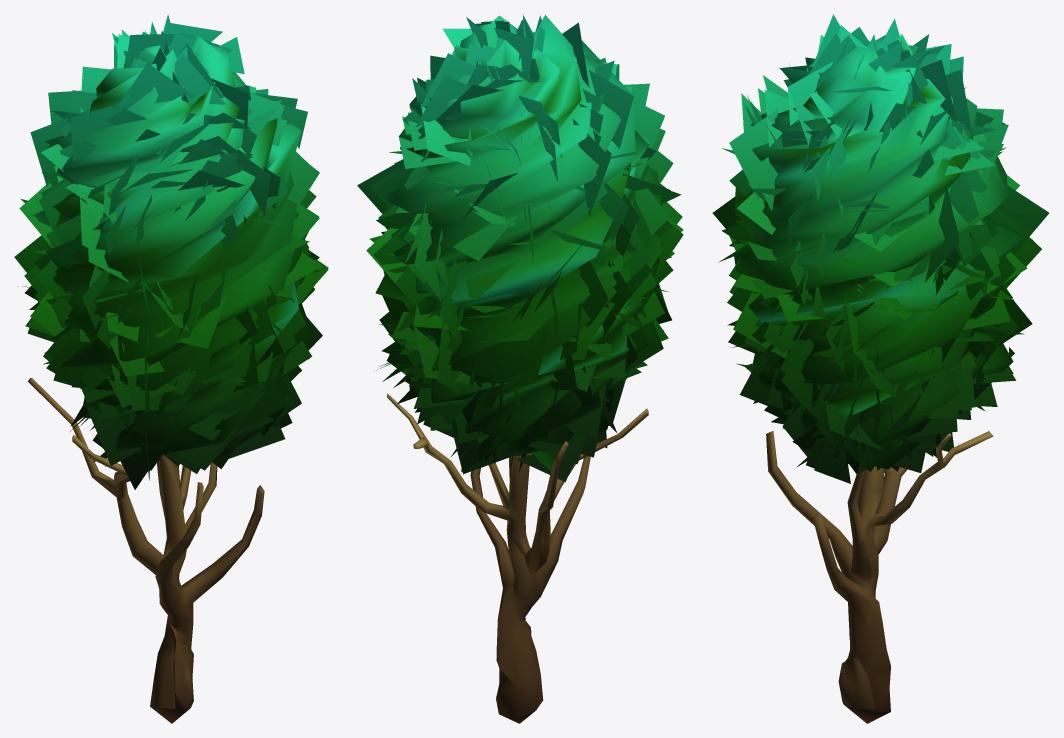
The model's file is Forest_Tree_2C.fbx.
3 views of the same model, side by side, from view 1: azimuth 30°, elevation 25°; view 2: azimuth 150°, elevation 25°; view 3: azimuth 270°, elevation 25° (orthographic). The views are drawn at different scales.
Visible parts, largest first — view 1: Forest_Tree_2C; view 2: Forest_Tree_2C; view 3: Forest_Tree_2C.
Part boxes in pixels (box(x1,y1,x2,y2)): Forest_Tree_2C: box(14, 14, 328, 723); Forest_Tree_2C: box(357, 14, 683, 723); Forest_Tree_2C: box(712, 14, 1048, 723).
Bounding box in the file's own units: 283 × 667 × 294.
